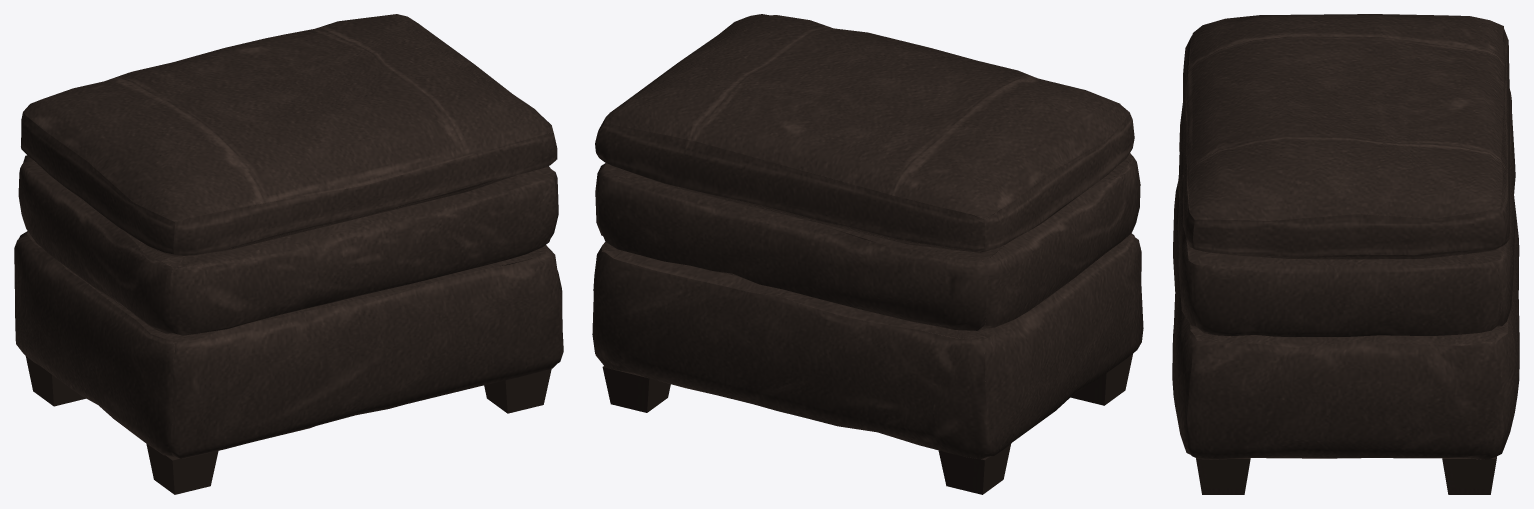
The model's file is ottoman.glb.
The picture shows the model from 3 angles, left to right: view 1: azimuth 30°, elevation 25°; view 2: azimuth 150°, elevation 25°; view 3: azimuth 270°, elevation 25°; orthographic projection.
Parts seen in each view (by area): view 1: tint_fabric; view 2: tint_fabric; view 3: tint_fabric.
Boxes of the visible parts, left/top/right/bottom form: tint_fabric: left=14, top=14, right=563, bottom=494; tint_fabric: left=592, top=14, right=1143, bottom=494; tint_fabric: left=1172, top=14, right=1519, bottom=494.
Bounding box in the file's own units: 0.8845 × 0.6239 × 0.6209.
Materials: 1 (1 with a texture image).
